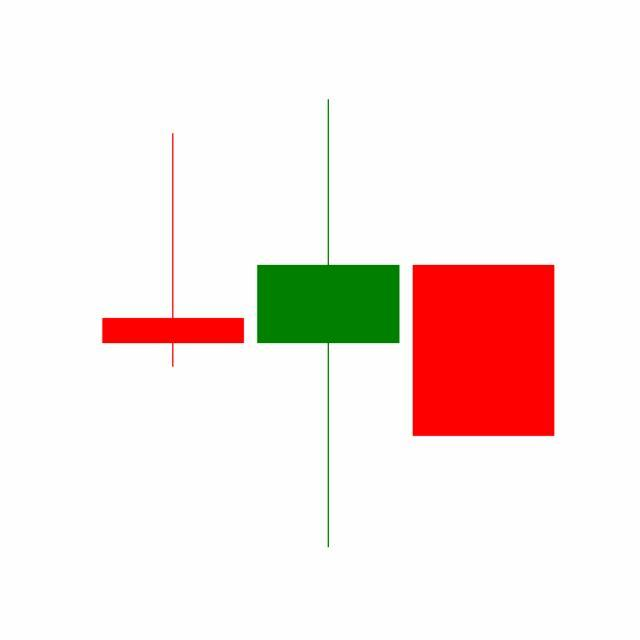Marubozu: (406, 263, 562, 439)
